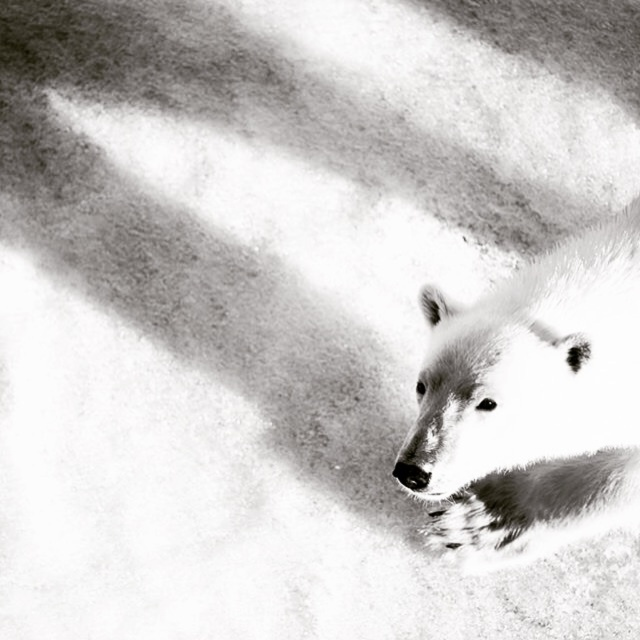Polar bear: (388, 202, 639, 576)
